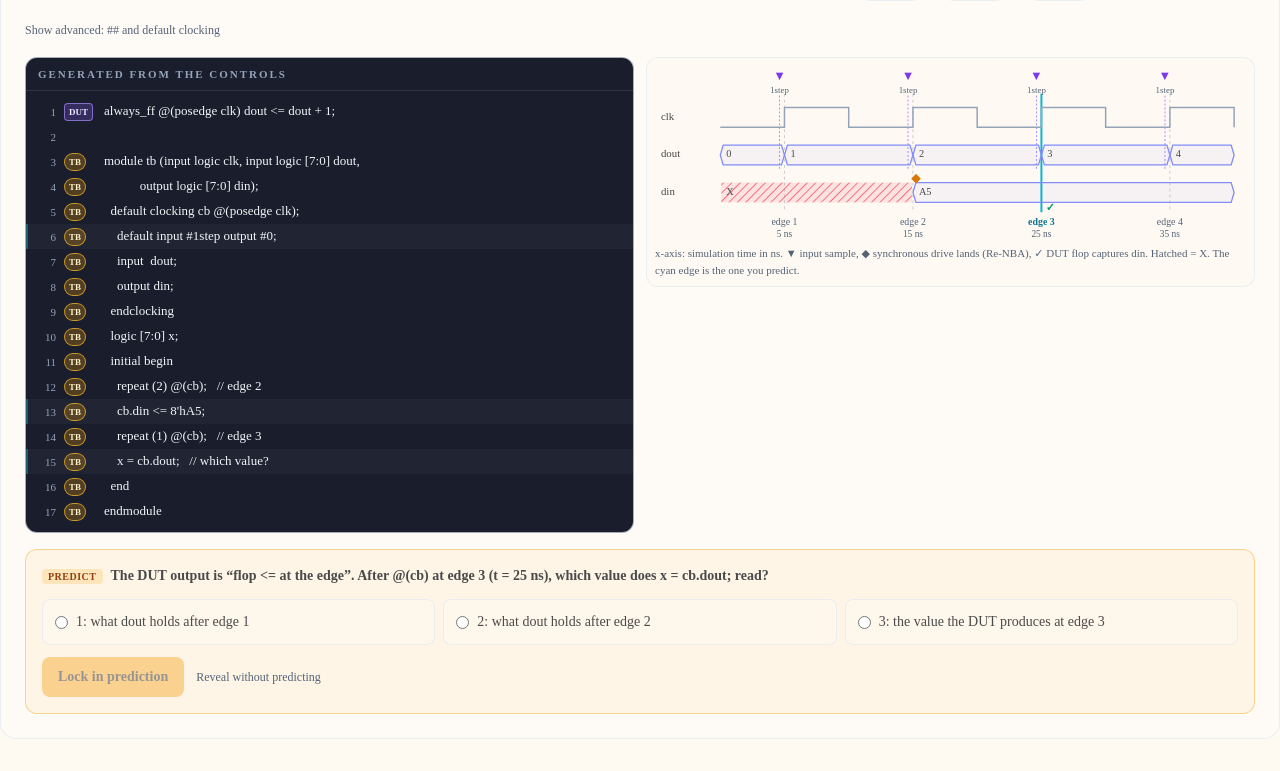
Test: ClockingBlockSkewVisualizer › diagnoses the 'new value' misconception with the default #1step skew
(page scrolled)
Click the radio button labelled "3: the value the DUT produces at edge 3".
click(864, 622)  # box [858, 616, 871, 629]
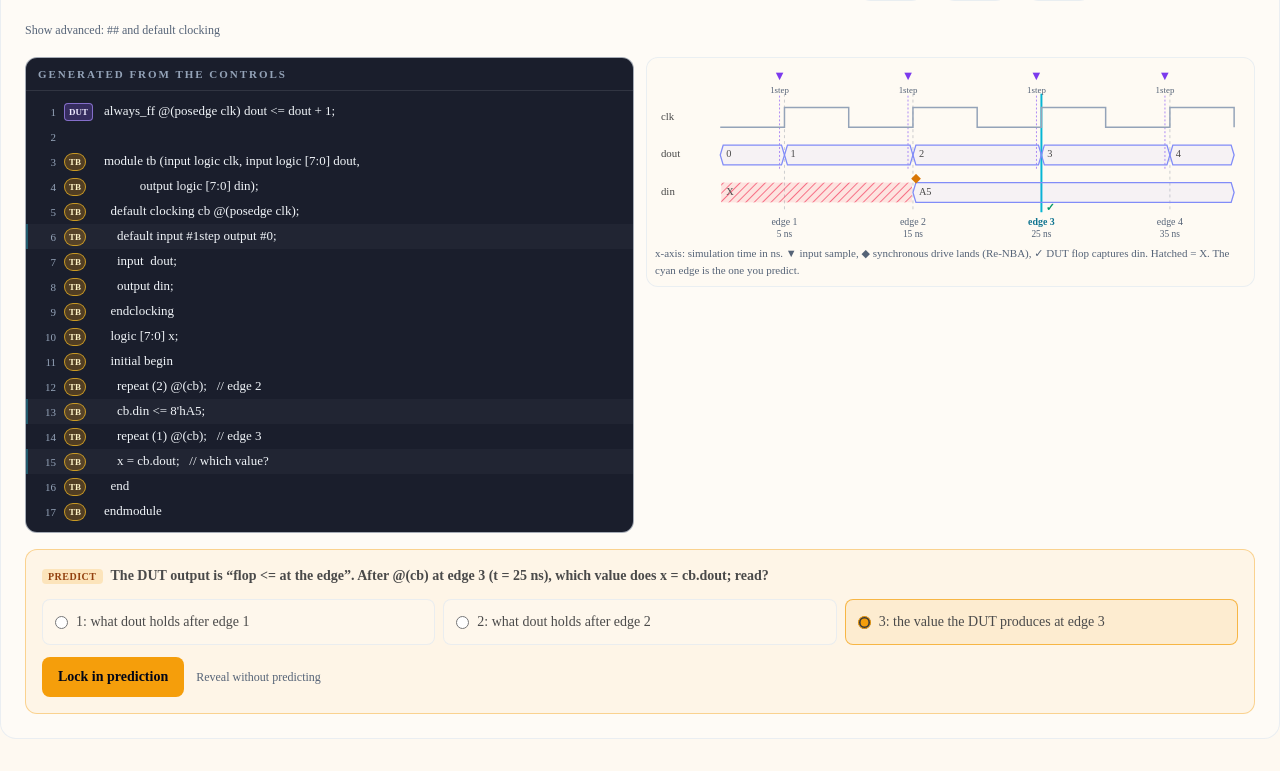
Click the button "Lock in prediction".
click(113, 677)  # box [42, 657, 184, 697]
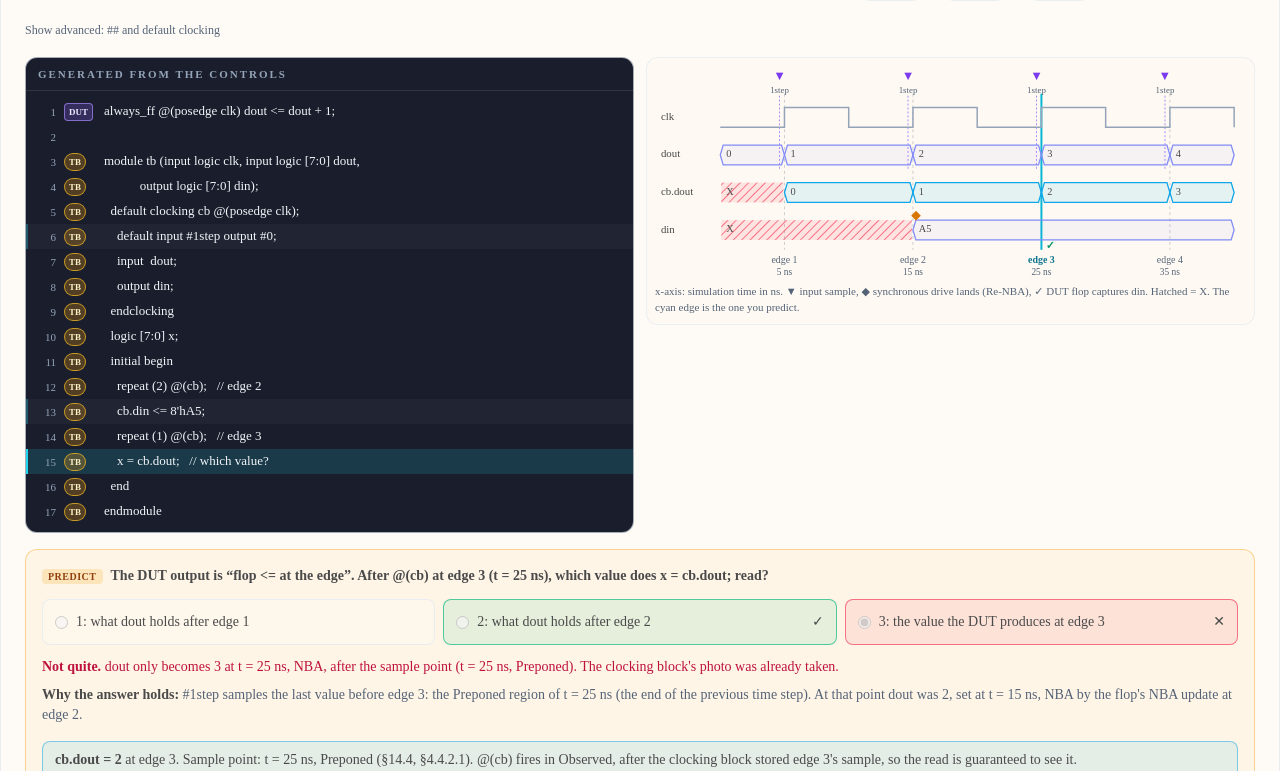
Result: the text "Not quite." is shown at [42, 659, 105, 674]
Result: the text "after the sample point" is shown at [105, 659, 839, 674]
